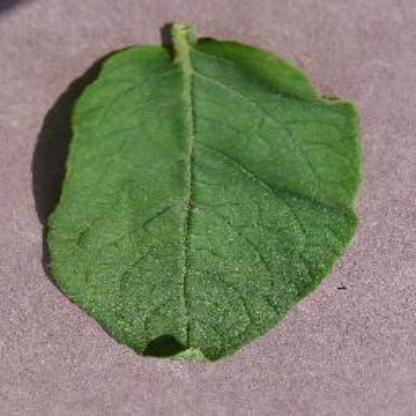Healthy-plant: (43, 15, 360, 364)
